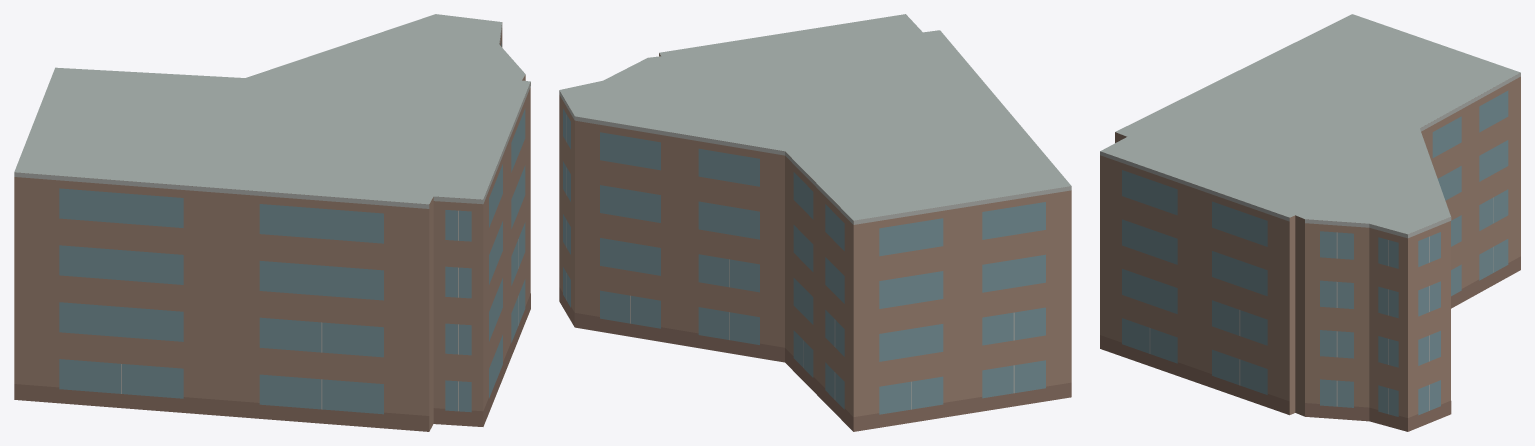
The model's file is survey-upis-32779427.glb.
3 renders of one model, left to right at view 1: azimuth 30°, elevation 25°; view 2: azimuth 150°, elevation 25°; view 3: azimuth 270°, elevation 25°, orthographic. The views are drawn at different scales.
Visible parts, largest first — view 1: survey-upis-32779427.tmp; view 2: survey-upis-32779427.tmp; view 3: survey-upis-32779427.tmp.
Part boxes in pixels (left/top/right/bottom): survey-upis-32779427.tmp: left=14, top=14, right=530, bottom=431; survey-upis-32779427.tmp: left=559, top=14, right=1071, bottom=431; survey-upis-32779427.tmp: left=1100, top=14, right=1520, bottom=431.
Size of the model in its own units: 28.83 by 12.05 by 23.27.
